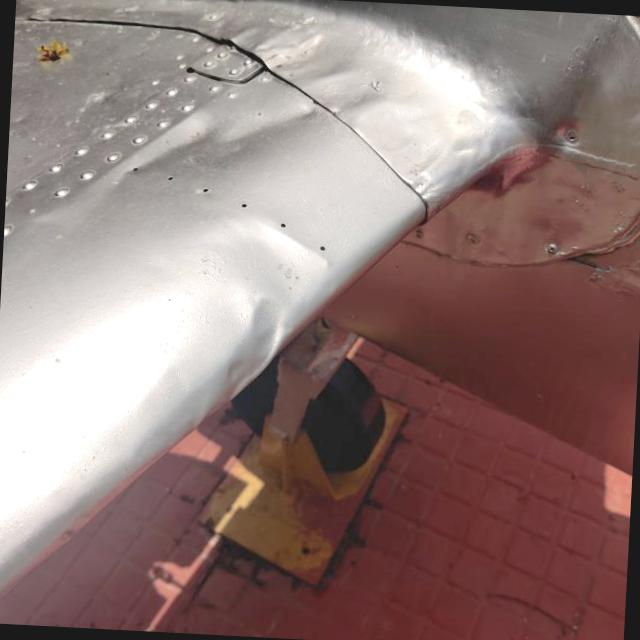dent: (111, 83, 326, 203), (204, 280, 299, 414)
